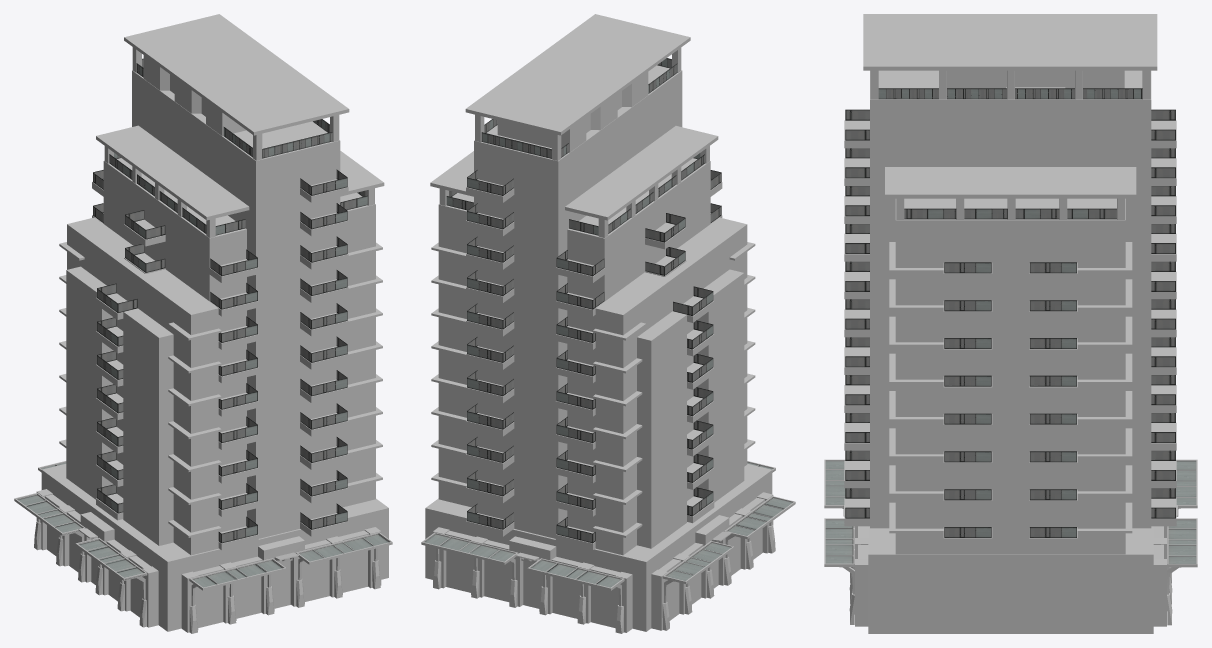
The model's file is building-14.FBX.
3 renders of one model, left to right at view 1: azimuth 30°, elevation 25°; view 2: azimuth 150°, elevation 25°; view 3: azimuth 270°, elevation 25°, orthographic. The views are drawn at different scales.
Visible parts, largest first — view 1: building-14_LOD0; view 2: building-14_LOD0; view 3: building-14_LOD0.
Part boxes in pixels (x1,y1,x2,y2): building-14_LOD0: (14, 14, 392, 633); building-14_LOD0: (421, 14, 795, 633); building-14_LOD0: (824, 14, 1197, 633).
Size of what is drawn, in the model's own units: 1357 by 2278 by 1416.
